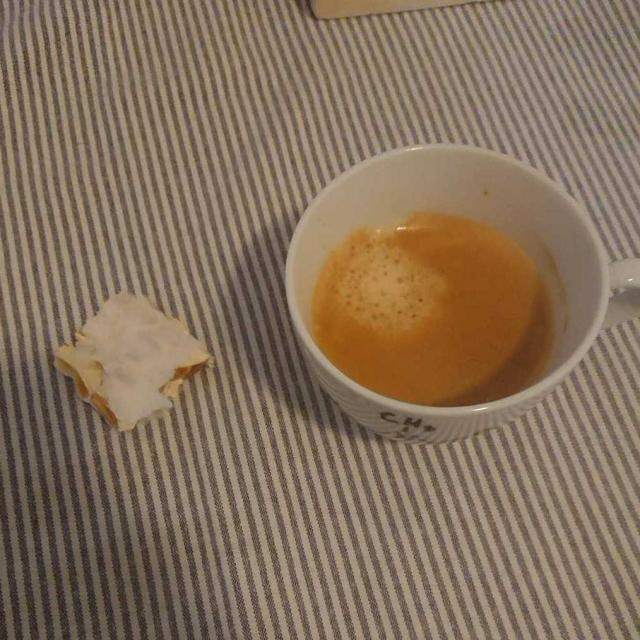coffee: (314, 214, 556, 402)
